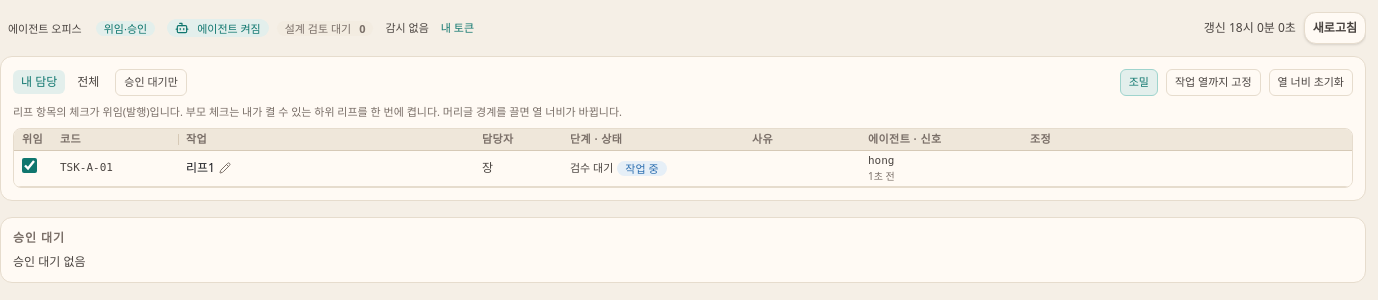
Scenario: AgentHubView › 갱신 실패는 마지막 데이터를 유지하고 상단에 실패 시각·문구
Click the button "새로고침" at (1335, 28), box [1304,12,1366,44]
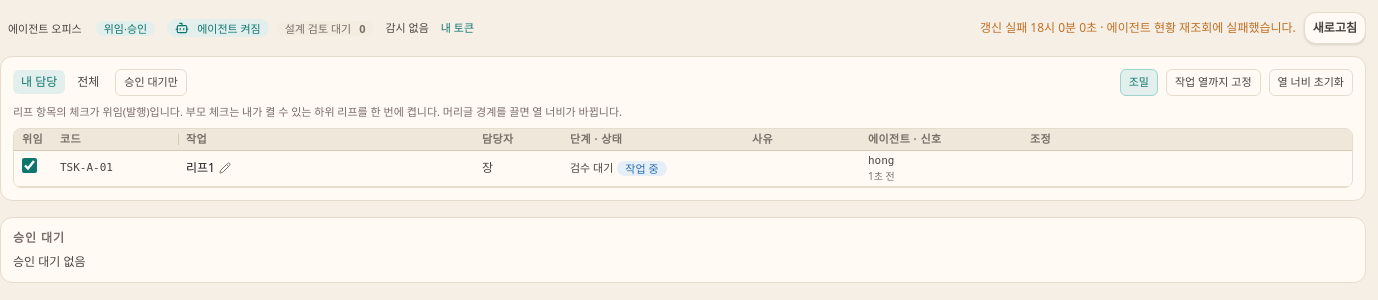
expect the row "TSK-A-01 리프1 장 검수 대기 작업 중 hong 1초 전" is shown: met, box [14,150,1352,187]
expect the text "갱신 실패 18시 0분 0초 · 에이전트 현황 재조회에 실패했습니다." is shown: met, box [980,20,1296,36]
